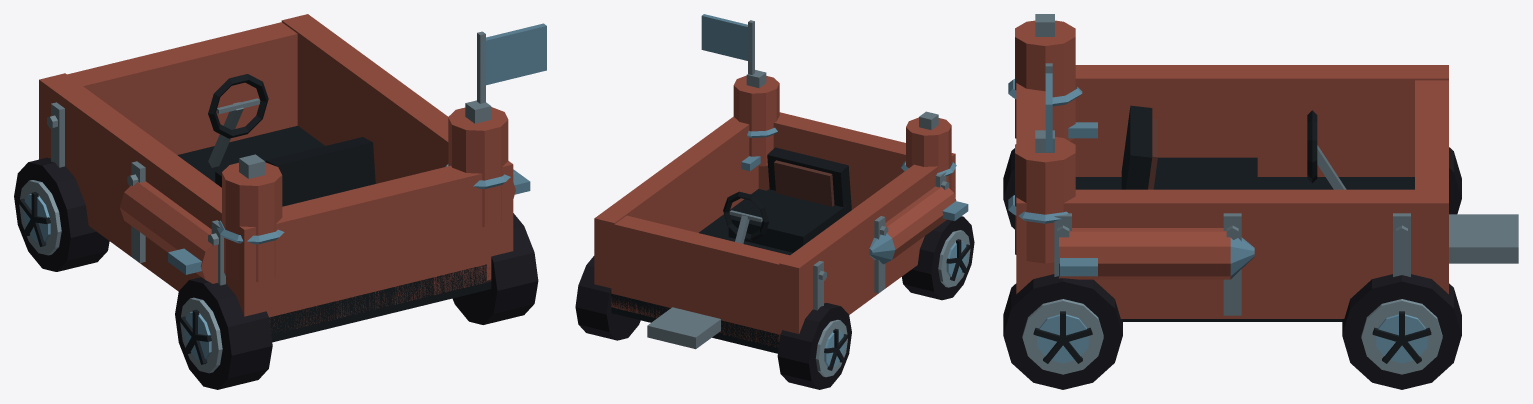
File: kart.glb
3 renders of one model, left to right at view 1: azimuth 30°, elevation 25°; view 2: azimuth 150°, elevation 25°; view 3: azimuth 270°, elevation 25°, orthographic. The views are drawn at different scales.
Visible parts, largest first — view 1: identity-minecart-minecart-riveted-open-bin, identity-minecart-motif-tanks, wheel-rear-left, identity-minecart-driver-cockpit, wheel-front-left, identity-minecart-motif-rocket, wheel-rear-right, identity-minecart-motif-flag; view 2: identity-minecart-minecart-riveted-open-bin, identity-minecart-driver-cockpit, identity-minecart-motif-tanks, wheel-front-left, wheel-rear-left, identity-minecart-motif-rocket, wheel-front-right, identity-minecart-motif-flag; view 3: identity-minecart-minecart-riveted-open-bin, identity-minecart-motif-tanks, wheel-front-right, wheel-rear-right, identity-minecart-motif-rocket, identity-minecart-driver-cockpit, identity-minecart-motif-flag, wheel-front-left, wheel-rear-left.
Part boxes in pixels (left/top/right/bottom): identity-minecart-minecart-riveted-open-bin: left=39, top=14, right=513, bottom=342; identity-minecart-motif-tanks: left=217, top=100, right=514, bottom=281; wheel-rear-left: left=175, top=277, right=272, bottom=389; identity-minecart-driver-cockpit: left=208, top=74, right=375, bottom=206; wheel-front-left: left=14, top=157, right=109, bottom=271; identity-minecart-motif-rocket: left=119, top=169, right=530, bottom=283; wheel-rear-right: left=452, top=213, right=538, bottom=324; identity-minecart-motif-flag: left=477, top=23, right=546, bottom=103; identity-minecart-minecart-riveted-open-bin: left=594, top=112, right=955, bottom=353; identity-minecart-driver-cockpit: left=723, top=147, right=851, bottom=252; identity-minecart-motif-tanks: left=733, top=70, right=956, bottom=189; wheel-front-left: left=777, top=303, right=851, bottom=389; wheel-rear-left: left=902, top=216, right=974, bottom=300; identity-minecart-motif-rocket: left=741, top=156, right=968, bottom=264; wheel-front-right: left=575, top=256, right=640, bottom=340; identity-minecart-motif-flag: left=701, top=14, right=754, bottom=74; identity-minecart-minecart-riveted-open-bin: left=1016, top=65, right=1518, bottom=321; identity-minecart-motif-tanks: left=1008, top=14, right=1082, bottom=263; wheel-front-right: left=1342, top=274, right=1461, bottom=389; wheel-rear-right: left=1003, top=274, right=1122, bottom=389; identity-minecart-motif-rocket: left=1059, top=122, right=1254, bottom=279; identity-minecart-driver-cockpit: left=1121, top=105, right=1346, bottom=189; identity-minecart-motif-flag: left=1045, top=63, right=1052, bottom=151; wheel-front-left: left=1449, top=147, right=1461, bottom=214; wheel-rear-left: left=1003, top=148, right=1014, bottom=229.
Size of the model in its own units: 2.16 by 1.7 by 2.58.
